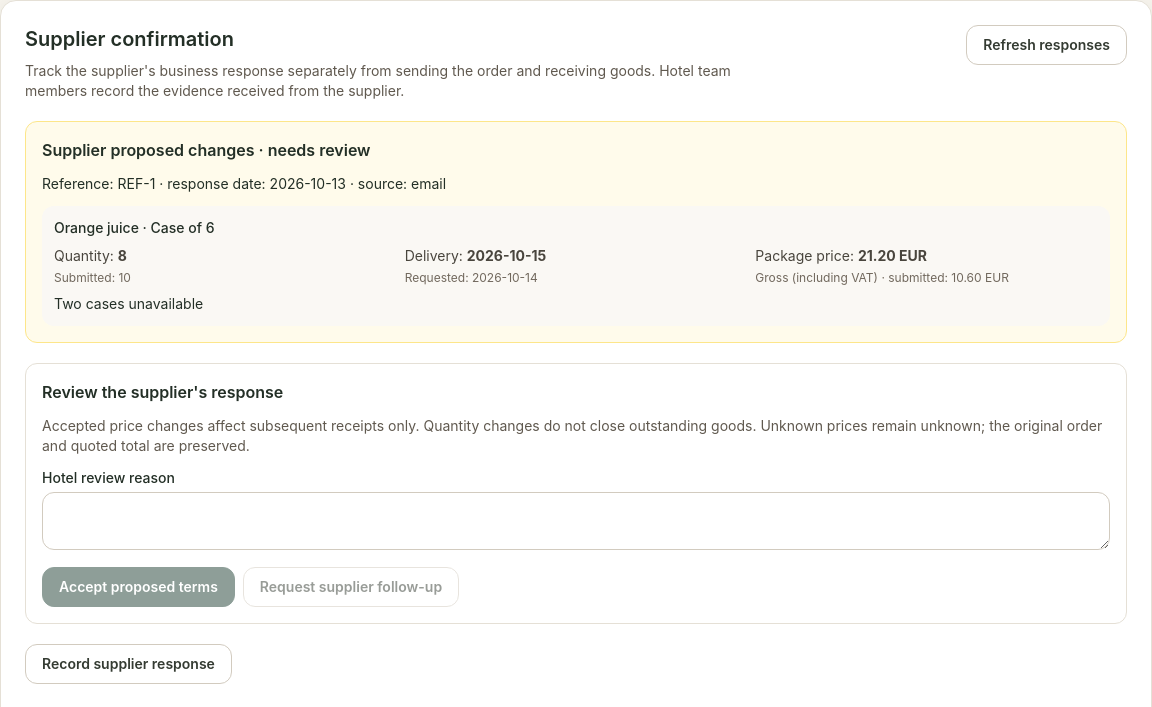
Scenario: explicit review references the latest response and preserves original snapshot policy
The width and height of the screenshot is (1152, 707).
Expected: the button "Accept proposed terms" is disabled, [42, 567, 235, 607]
Step 1. Type "Accepted after supplier discussion" into the text box labelled "Hotel review reason" → (576,521), box [42, 492, 1110, 550]
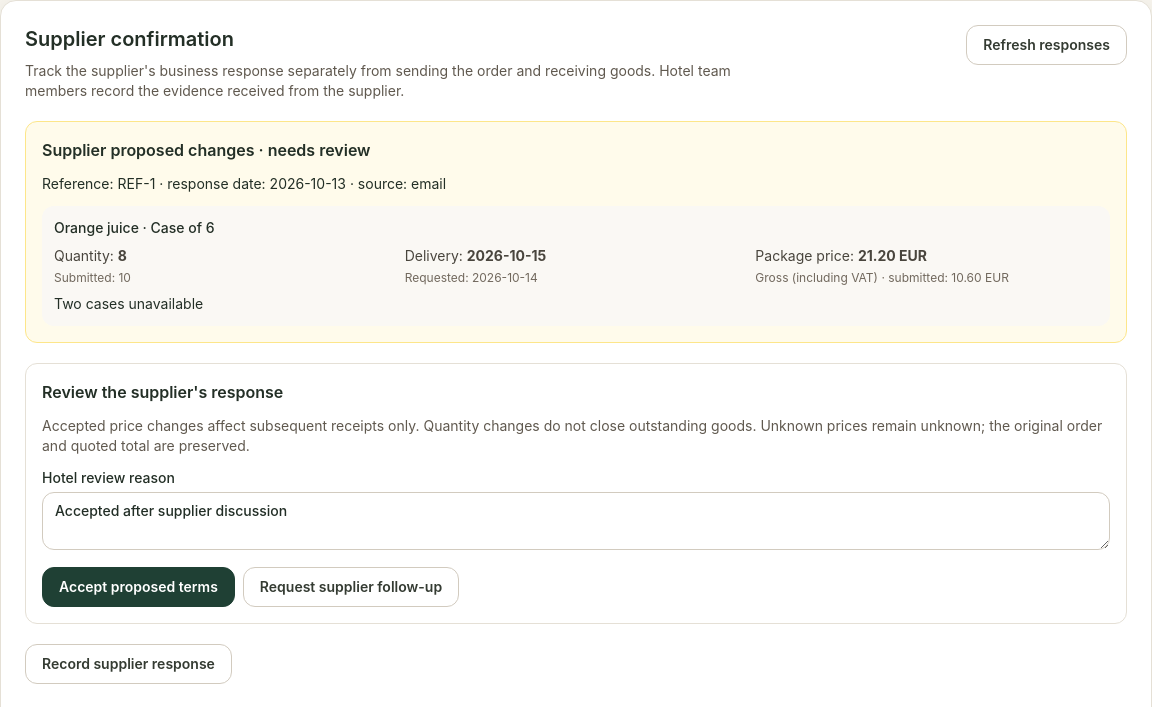
Step 2. Click the button "Accept proposed terms" → (138,587), box [42, 567, 235, 607]
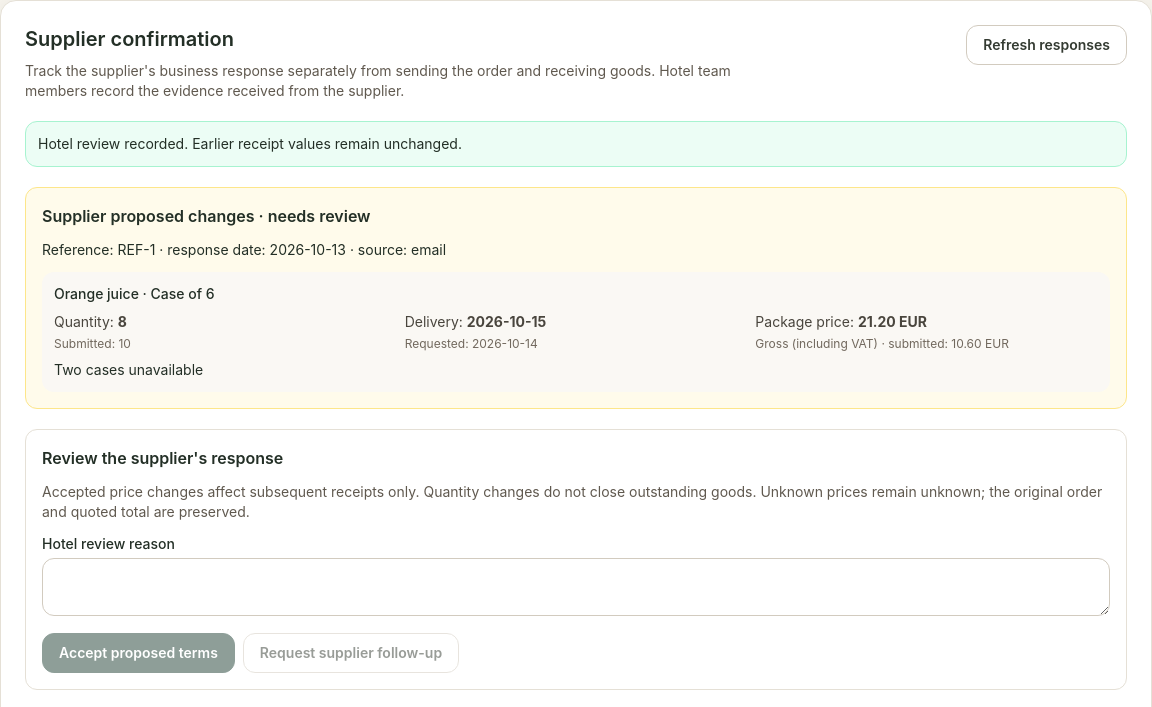
Expected: the text "Hotel review recorded. Earlier receipt values remain unchanged." is shown, [25, 121, 1127, 167]
